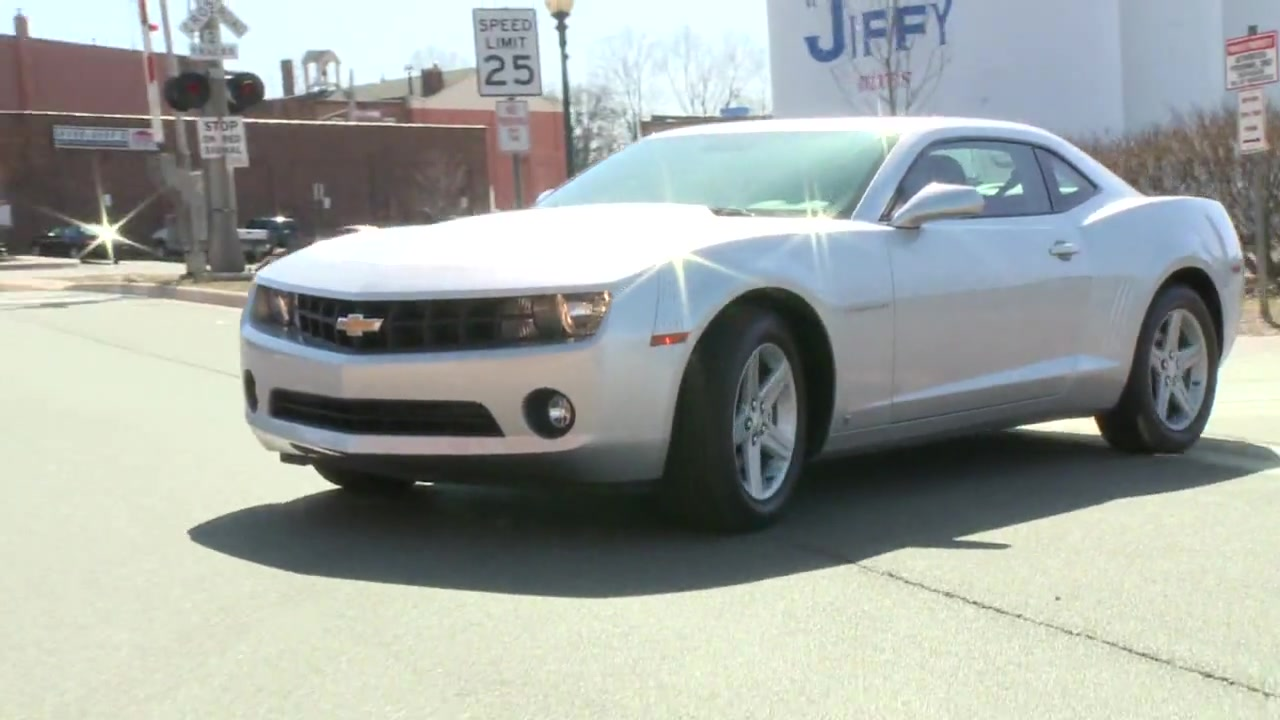car: (240, 116, 1248, 537)
